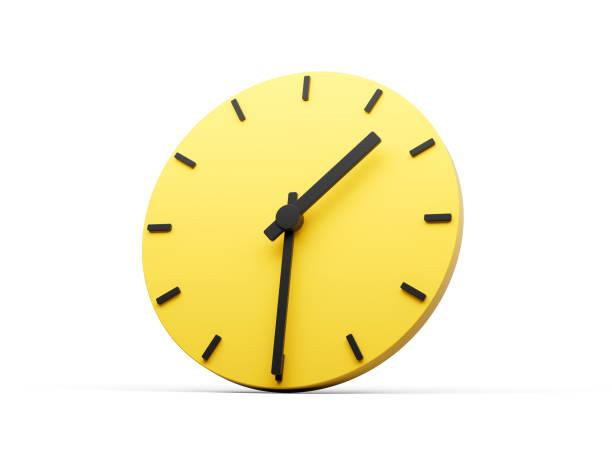clock: (137, 67, 465, 394)
